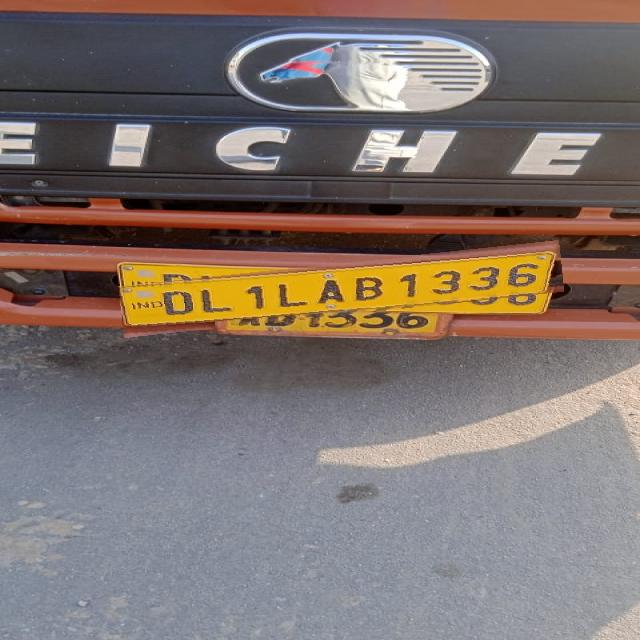License-plate: (119, 251, 564, 327)
